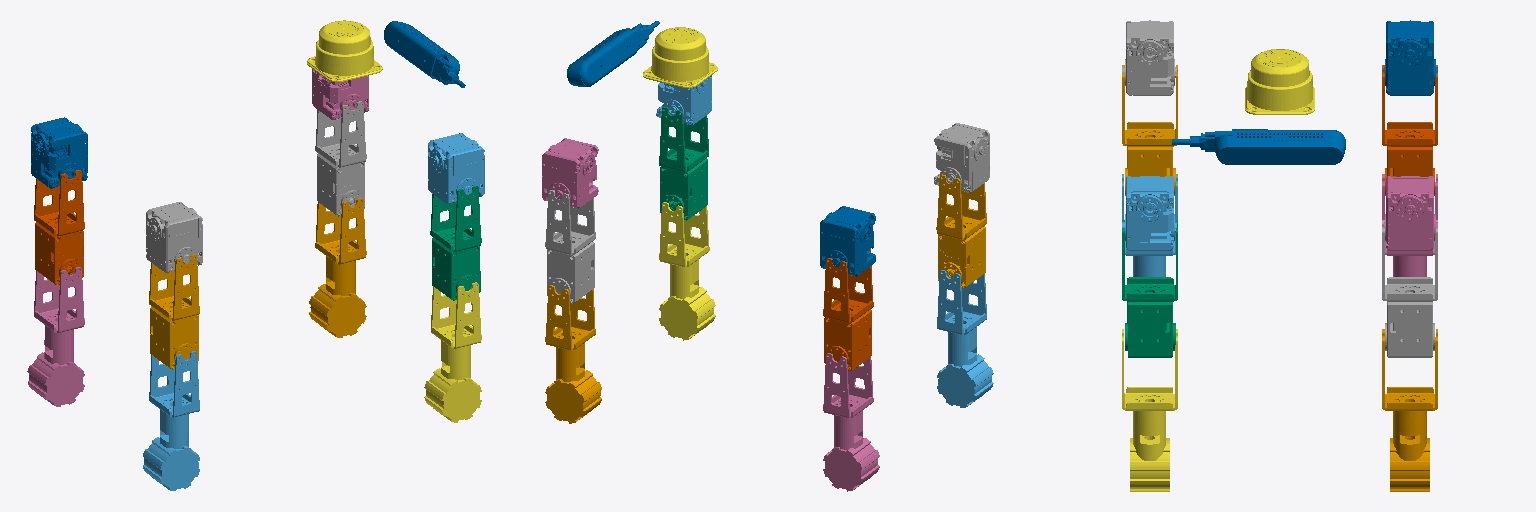
--- Facts derived from the render (not from the file) ---
Views: 3 orthographic renders of the robot side by side, from view 1: azimuth 30°, elevation 25°; view 2: azimuth 150°, elevation 25°; view 3: azimuth 270°, elevation 25°.
Robot: dynabot — 18 links, 17 joints (12 revolute, 5 fixed); root link base_footprint; default pose: every joint at zero.
Links seen in each view (by area): view 1: LF_SHANK, RF_SHANK, LH_SHANK, RH_SHANK, LH_THIGH, RH_THIGH, RF_THIGH, LF_THIGH, lidar_link, RH_HIP, RF_HIP, LH_HIP (+2 smaller); view 2: LF_SHANK, LH_SHANK, RF_SHANK, RH_SHANK, RH_THIGH, LF_THIGH, LH_THIGH, RF_THIGH, lidar_link, LF_HIP, LH_HIP, RH_HIP (+2 smaller); view 3: camera_link, LF_SHANK, RF_SHANK, LF_THIGH, RF_THIGH, lidar_link, LH_HIP, LF_HIP, RH_HIP, RF_HIP, LH_THIGH, RH_THIGH (+2 smaller).
Boxes of the visible links, <box> form: LF_SHANK: <box>309,198,366,337</box>; RF_SHANK: <box>424,282,481,422</box>; LH_SHANK: <box>27,267,84,406</box>; RH_SHANK: <box>143,351,199,490</box>; LH_THIGH: <box>34,170,84,284</box>; RH_THIGH: <box>149,254,199,369</box>; RF_THIGH: <box>430,186,481,300</box>; LF_THIGH: <box>315,101,366,216</box>; lidar_link: <box>307,20,382,81</box>; RH_HIP: <box>146,202,202,272</box>; RF_HIP: <box>428,133,484,204</box>; LH_HIP: <box>31,117,87,188</box>; LF_SHANK: <box>545,285,601,423</box>; LH_SHANK: <box>823,353,879,491</box>; RF_SHANK: <box>659,202,715,340</box>; RH_SHANK: <box>937,270,993,407</box>; RH_THIGH: <box>936,174,986,287</box>; LF_THIGH: <box>545,181,595,303</box>; LH_THIGH: <box>823,248,873,370</box>; RF_THIGH: <box>659,107,708,220</box>; lidar_link: <box>643,27,717,87</box>; LF_HIP: <box>542,138,598,208</box>; LH_HIP: <box>820,206,875,276</box>; RH_HIP: <box>934,123,989,192</box>; camera_link: <box>1172,129,1345,164</box>; LF_SHANK: <box>1382,329,1437,491</box>; RF_SHANK: <box>1122,329,1177,491</box>; LF_THIGH: <box>1382,220,1437,357</box>; RF_THIGH: <box>1122,220,1177,357</box>; lidar_link: <box>1245,49,1314,114</box>; LH_HIP: <box>1384,20,1437,95</box>; LF_HIP: <box>1384,176,1437,250</box>; RH_HIP: <box>1122,20,1176,95</box>; RF_HIP: <box>1122,176,1176,250</box>; LH_THIGH: <box>1382,65,1437,195</box>; RH_THIGH: <box>1122,65,1177,195</box>.
Bounding box of the posed robot: 0.3323 × 0.2371 × 0.3324 m (x, y, z).
Meshes: 6 distinct files referenced, 14 mesh visuals loaded (5 binary STL); not drawn: 1 (reference not matched to a file when rendering).

URDF robot description (dynabot):
<?xml version="1.0" encoding="utf-8"?>
<robot name="dynabot"> 
    
    <link name="base_footprint" />
    
    <joint name="base_link_joint" type="fixed">
        <origin xyz="0 0 0" rpy="0 0 0" />
        <parent link="base_footprint" />
        <child link="base" />
    </joint>

    <!-- Base link -->
    <link name="base">
        <visual>
            <origin rpy="1.57 0 1.57" xyz="0 0 0"/>
            <geometry>
                <mesh filename="package://dynabot_description/meshes/main_body_v4.stl" scale="0.001 0.001 0.001"/>
            </geometry>
        </visual>
        <collision>
            <origin rpy="0 0 0" xyz="0 0 0"/>
            <geometry>
                <box size="0.35 0.22 0.1"/>
            </geometry>
        </collision>
    </link>
    <joint name="base_to_base_inertia" type="fixed">
        <parent link="base"/>
        <child link="base_inertia"/>
        <origin rpy="0 0 0" xyz="0 0 -0.02"/>
    </joint>
    <link name="base_inertia">
        <inertial>
            <origin rpy="0 0 0" xyz="0 0 0"/>
            <mass value="2.082"/>
            <inertia ixx="0.02" ixy="0.0000002" ixz="0.00000006" iyy="0.021" iyz="0.001" izz="0.004"/>
        </inertial>
    </link>
    
    <joint name="base_to_lidar" type="fixed">
        <parent link="base"/>
        <child link="lidar_link"/>
        <origin rpy="0 0 0" xyz="0.085 0 0.0275"/>
    </joint>
    <link name="lidar_link">
        <visual>
            <origin rpy="0 3.14 0" xyz="0 0 -0.025"/>
            <geometry>
                <mesh filename="package://dynabot_description/meshes/rplidar-s1.stl" scale="0.001 0.001 0.001"/>
            </geometry>
        </visual>
    </link>
    
    <joint name="base_to_camera" type="fixed">
        <parent link="base"/>
        <child link="camera_link"/>
        <origin rpy="0 0.3 0" xyz="0.16 0 0.015"/>
    </joint>
    <link name="camera_link">
        <visual>
            <origin rpy="1.57 0 1.57" xyz="0.01 0 0"/>
            <geometry>
                <mesh filename="package://dynabot_description/meshes/realsense.stl" scale="0.001 0.001 0.001"/>
            </geometry>
        </visual>
    </link>
    <joint name="camera_to_image" type="fixed">
        <parent link="camera_link"/>
        <child link="camera_image"/>
        <origin rpy="1.57 3.14 1.57" xyz="0 0 0"/>
    </joint>
    <link name="camera_image" />

    <joint name="LF_HAA" type="revolute">
        <parent link="base"/>
        <child link="LF_HIP"/>
        <origin rpy="0 0 0" xyz="0.1375 0.0975 -0.038"/>
        <axis xyz="-1 0 0"/>
        <limit effort="1.4" lower="-1.57" upper="1" velocity="6.96"/>
        <dynamics damping="0.0" friction="0.0"/>
    </joint>
    <link name="LF_HIP">
        <visual>
            <origin rpy="-1.57 0 0" xyz="0 0 -0.012"/>
            <geometry>
                <mesh filename="package://dynabot_description/meshes/2XL-430.stl" scale="0.001 0.001 0.001"/>
            </geometry>
        </visual>
        <inertial>
            <origin rpy="0 0 0" xyz="0 0 0"/>
            <mass value="0.098"/>
            <inertia ixx="0.005" ixy="0" ixz="0" iyy="0.004" iyz="-0.002" izz="0.002"/>
        </inertial>
        <collision>
            <origin rpy="-1.57 0 0" xyz="0 0 -0.012"/>
            <geometry>
                <box size="0.04 0.046 0.04"/>
            </geometry>
        </collision>
    </link>
    <joint name="LF_HFE" type="revolute">
        <parent link="LF_HIP"/>
        <child link="LF_THIGH"/>
        <origin rpy="0 0 0" xyz="0 0 -0.024"/>
        <axis xyz="0 1 0"/>
        <limit effort="1.4" lower="-2.4" upper="2.4" velocity="6.96"/>
        <dynamics damping="0.0" friction="0.0"/>
    </joint>
    <link name="LF_THIGH">
        <visual>
            <origin rpy="-1.57 0 1.57" xyz="0 -0.0165 -0.047"/>
            <geometry>
                <mesh filename="package://dynabot_description/meshes/thigh.stl" scale="0.001 0.001 0.001"/>
            </geometry>
        </visual>
        <inertial>
            <origin rpy="0 0 0" xyz="0 0 0"/>
            <mass value="0.068"/>
            <inertia ixx="0.005" ixy="0" ixz="0" iyy="0.004" iyz="-0.002" izz="0.002"/>
        </inertial>
        <collision>
            <origin rpy="-1.57 0 1.57" xyz="0 0 -0.05"/>
            <geometry>
                <box size="0.042 0.104 0.03"/>
            </geometry>
        </collision>
    </link>
    <joint name="LF_KFE" type="revolute">
        <parent link="LF_THIGH"/>
        <child link="LF_SHANK"/>
        <origin rpy="0 0 0" xyz="0 0 -0.09"/>
        <axis xyz="0 1 0"/>
        <limit effort="1.4" lower="-2.4" upper="2.4" velocity="6.96"/>
        <dynamics damping="0.0" friction="0.0"/>
    </joint>
    <link name="LF_SHANK">
        <visual>
            <origin rpy="-1.57 0 1.57" xyz="0 -0.0115 -0.0385"/>
            <geometry>
                <mesh filename="package://dynabot_description/meshes/shank.stl" scale="0.001 0.001 0.001"/>
            </geometry>
        </visual>
        <inertial>
            <origin rpy="0 0 0" xyz="0 0 0"/>
            <mass value="0.066"/>
            <inertia ixx="0.005" ixy="0" ixz="0" iyy="0.004" iyz="-0.002" izz="0.002"/>
        </inertial>
        <collision>
            <origin rpy="-1.57 0 1.57" xyz="0 0 -0.062"/>
            <geometry>
                <box size="0.032 0.1 0.028"/>
            </geometry>
        </collision>
        <collision>
            <origin rpy="1.57 0 0" xyz="-0.003 0 -0.107"/>
            <geometry>
                <cylinder length="0.03" radius="0.02"/>
            </geometry>
        </collision>
    </link>
    
    <joint name="RF_HAA" type="revolute">
        <parent link="base"/>
        <child link="RF_HIP"/>
        <origin rpy="0 0 0" xyz="0.1375 -0.0975 -0.038"/>
        <axis xyz="1 0 0"/>
        <limit effort="1.4" lower="-1.57" upper="1" velocity="6.96"/>
        <dynamics damping="0.0" friction="0.0"/>
    </joint>    
    <link name="RF_HIP">
        <visual>
            <origin rpy="-1.57 0 3.14" xyz="0 0 -0.012"/>
            <geometry>
                <mesh filename="package://dynabot_description/meshes/2XL-430.stl" scale="0.001 0.001 0.001"/>
            </geometry>
        </visual>
        <inertial>
            <origin rpy="0 0 0" xyz="0 0 0"/>
            <mass value="0.098"/>
            <inertia ixx="0.005" ixy="0" ixz="0" iyy="0.004" iyz="-0.002" izz="0.002"/>
        </inertial>
        <collision>
            <origin rpy="-1.57 0 0" xyz="0 0 -0.012"/>
            <geometry>
                <box size="0.04 0.046 0.04"/>
            </geometry>
        </collision>
    </link> 
    <joint name="RF_HFE" type="revolute">
        <parent link="RF_HIP"/>
        <child link="RF_THIGH"/>
        <origin rpy="0 0 0" xyz="0 0 -0.024"/>
        <axis xyz="0 -1 0"/>
        <limit effort="1.4" lower="-2.4" upper="2.4" velocity="6.96"/>
        <dynamics damping="0.0" friction="0.0"/>
    </joint>
    <link name="RF_THIGH">
        <visual>
            <origin rpy="-1.57 0 -1.57" xyz="0 0.0165 -0.047"/>
            <geometry>
                <mesh filename="package://dynabot_description/meshes/thigh.stl" scale="0.001 0.001 0.001"/>
            </geometry>
        </visual>
        <inertial>
            <origin rpy="0 0 0" xyz="0 0 0"/>
            <mass value="0.068"/>
            <inertia ixx="0.005" ixy="0" ixz="0" iyy="0.004" iyz="-0.002" izz="0.002"/>
        </inertial>
        <collision>
            <origin rpy="-1.57 0 1.57" xyz="0 0 -0.05"/>
            <geometry>
                <box size="0.042 0.104 0.03"/>
            </geometry>
        </collision>
    </link>
    <joint name="RF_KFE" type="revolute">
        <parent link="RF_THIGH"/>
        <child link="RF_SHANK"/>
        <origin rpy="0 0 0" xyz="0 0 -0.09"/>
        <axis xyz="0 -1 0"/>
        <limit effort="1.4" lower="-2.4" upper="2.4" velocity="6.96"/>
        <dynamics damping="0.0" friction="0.0"/>
    </joint>
    <link name="RF_SHANK">
        <visual>
            <origin rpy="-1.57 0 1.57" xyz="0 -0.0115 -0.0385"/>
            <geometry>
                <mesh filename="package://dynabot_description/meshes/shank.stl" scale="0.001 0.001 0.001"/>
            </geometry>
        </visual>
        <inertial>
            <origin rpy="0 0 0" xyz="0 0 0"/>
            <mass value="0.066"/>
            <inertia ixx="0.005" ixy="0" ixz="0" iyy="0.004" iyz="-0.002" izz="0.002"/>
        </inertial>
        <collision>
            <origin rpy="-1.57 0 1.57" xyz="0 0 -0.062"/>
            <geometry>
                <box size="0.032 0.1 0.028"/>
            </geometry>
        </collision>
        <collision>
            <origin rpy="1.57 0 0" xyz="-0.003 0 -0.107"/>
            <geometry>
                <cylinder length="0.03" radius="0.02"/>
            </geometry>
        </collision>
    </link>
    
    <joint name="LH_HAA" type="revolute">
        <parent link="base"/>
        <child link="LH_HIP"/>
        <origin rpy="0 0 0" xyz="-0.1375 0.0975 -0.038"/>
        <axis xyz="-1 0 0"/>
        <limit effort="1.4" lower="-1.57" upper="1" velocity="6.96"/>
        <dynamics damping="0.0" friction="0.0"/>
    </joint>
    <link name="LH_HIP">
        <visual>
            <origin rpy="-1.57 0 0" xyz="0 0 -0.012"/>
            <geometry>
                <mesh filename="package://dynabot_description/meshes/2XL-430.stl" scale="0.001 0.001 0.001"/>
            </geometry>
        </visual>
        <inertial>
            <origin rpy="0 0 0" xyz="0 0 0"/>
            <mass value="0.098"/>
            <inertia ixx="0.005" ixy="0" ixz="0" iyy="0.004" iyz="-0.002" izz="0.002"/>
        </inertial>
        <collision>
            <origin rpy="-1.57 0 0" xyz="0 0 -0.012"/>
            <geometry>
                <box size="0.04 0.046 0.04"/>
            </geometry>
        </collision>
    </link>
    <joint name="LH_HFE" type="revolute">
        <parent link="LH_HIP"/>
        <child link="LH_THIGH"/>
        <origin rpy="0 0 0" xyz="0 0 -0.024"/>
        <axis xyz="0 1 0"/>
        <limit effort="1.4" lower="-2.4" upper="2.4" velocity="6.96"/>
        <dynamics damping="0.0" friction="0.0"/>
    </joint>
    <link name="LH_THIGH">
        <visual>
            <origin rpy="-1.57 0 1.57" xyz="0 -0.0165 -0.047"/>
            <geometry>
                <mesh filename="package://dynabot_description/meshes/thigh.stl" scale="0.001 0.001 0.001"/>
            </geometry>
        </visual>
        <inertial>
            <origin rpy="0 0 0" xyz="0 0 0"/>
            <mass value="0.068"/>
            <inertia ixx="0.005" ixy="0" ixz="0" iyy="0.004" iyz="-0.002" izz="0.002"/>
        </inertial>
        <collision>
            <origin rpy="-1.57 0 1.57" xyz="0 0 -0.05"/>
            <geometry>
                <box size="0.042 0.104 0.03"/>
            </geometry>
        </collision>
    </link>
    <joint name="LH_KFE" type="revolute">
        <parent link="LH_THIGH"/>
        <child link="LH_SHANK"/>
        <origin rpy="0 0 0" xyz="0 0 -0.09"/>
        <axis xyz="0 1 0"/>
        <limit effort="1.4" lower="-2.4" upper="2.4" velocity="6.96"/>
        <dynamics damping="0.0" friction="0.0"/>
    </joint>
    <link name="LH_SHANK">
        <visual>
            <origin rpy="-1.57 0 1.57" xyz="0 -0.0115 -0.0385"/>
            <geometry>
                <mesh filename="package://dynabot_description/meshes/shank.stl" scale="0.001 0.001 0.001"/>
            </geometry>
        </visual>
        <inertial>
            <origin rpy="0 0 0" xyz="0 0 0"/>
            <mass value="0.066"/>
            <inertia ixx="0.005" ixy="0" ixz="0" iyy="0.004" iyz="-0.002" izz="0.002"/>
        </inertial>
        <collision>
            <origin rpy="-1.57 0 1.57" xyz="0 0 -0.062"/>
            <geometry>
                <box size="0.032 0.1 0.028"/>
            </geometry>
        </collision>
        <collision>
            <origin rpy="1.57 0 0" xyz="-0.003 0 -0.107"/>
            <geometry>
                <cylinder length="0.03" radius="0.02"/>
            </geometry>
        </collision>
    </link>
    
    <joint name="RH_HAA" type="revolute">
        <parent link="base"/>
        <child link="RH_HIP"/>
        <origin rpy="0 0 0" xyz="-0.1375 -0.0975 -0.038"/>
        <axis xyz="1 0 0"/>
        <limit effort="1.4" lower="-1.57" upper="1" velocity="6.96"/>
        <dynamics damping="0.0" friction="0.0"/>
    </joint>    
    <link name="RH_HIP">
        <visual>
            <origin rpy="-1.57 0 3.14" xyz="0 0 -0.012"/>
            <geometry>
                <mesh filename="package://dynabot_description/meshes/2XL-430.stl" scale="0.001 0.001 0.001"/>
            </geometry>
        </visual>
        <inertial>
            <origin rpy="0 0 0" xyz="0 0 0"/>
            <mass value="0.098"/>
            <inertia ixx="0.005" ixy="0" ixz="0" iyy="0.004" iyz="-0.002" izz="0.002"/>
        </inertial>
        <collision>
            <origin rpy="-1.57 0 0" xyz="0 0 -0.012"/>
            <geometry>
                <box size="0.04 0.046 0.04"/>
            </geometry>
        </collision>
    </link> 
    <joint name="RH_HFE" type="revolute">
        <parent link="RH_HIP"/>
        <child link="RH_THIGH"/>
        <origin rpy="0 0 0" xyz="0 0 -0.024"/>
        <axis xyz="0 -1 0"/>
        <limit effort="1.4" lower="-2.4" upper="2.4" velocity="6.96"/>
        <dynamics damping="0.0" friction="0.0"/>
    </joint>
    <link name="RH_THIGH">
        <visual>
            <origin rpy="-1.57 0 -1.57" xyz="0 0.0165 -0.047"/>
            <geometry>
                <mesh filename="package://dynabot_description/meshes/thigh.stl" scale="0.001 0.001 0.001"/>
            </geometry>
        </visual>
        <inertial>
            <origin rpy="0 0 0" xyz="0 0 0"/>
            <mass value="0.068"/>
            <inertia ixx="0.005" ixy="0" ixz="0" iyy="0.004" iyz="-0.002" izz="0.002"/>
        </inertial>
        <collision>
            <origin rpy="-1.57 0 1.57" xyz="0 0 -0.05"/>
            <geometry>
                <box size="0.042 0.104 0.03"/>
            </geometry>
        </collision>
    </link>
    <joint name="RH_KFE" type="revolute">
        <parent link="RH_THIGH"/>
        <child link="RH_SHANK"/>
        <origin rpy="0 0 0" xyz="0 0 -0.09"/>
        <axis xyz="0 -1 0"/>
        <limit effort="1.4" lower="-2.57" upper="2.57" velocity="6.96"/>
        <dynamics damping="0.0" friction="0.0"/>
    </joint>
    <link name="RH_SHANK">
        <visual>
            <origin rpy="-1.57 0 1.57" xyz="0 -0.0115 -0.0385"/>
            <geometry>
                <mesh filename="package://dynabot_description/meshes/shank.stl" scale="0.001 0.001 0.001"/>
            </geometry>
        </visual>
        <inertial>
            <origin rpy="0 0 0" xyz="0 0 0"/>
            <mass value="0.066"/>
            <inertia ixx="0.005" ixy="0" ixz="0" iyy="0.004" iyz="-0.002" izz="0.002"/>
        </inertial>
        <collision>
            <origin rpy="-1.57 0 1.57" xyz="0 0 -0.062"/>
            <geometry>
                <box size="0.032 0.1 0.028"/>
            </geometry>
        </collision>
        <collision>
            <origin rpy="1.57 0 0" xyz="-0.003 0 -0.107"/>
            <geometry>
                <cylinder length="0.03" radius="0.02"/>
            </geometry>
        </collision>
    </link>
    
    <gazebo reference="LF_SHANK">
		<mu1>1.0</mu1>
		<mu2>1.0</mu2>
		<minDepth>0.0002</minDepth>
		<kp  value="1000000.0"/>
		<kd  value="100.0"/>
	</gazebo>

	<gazebo reference="RF_SHANK">
		<mu1>1.0</mu1>
		<mu2>1.0</mu2>
		<minDepth>0.0002</minDepth>
		<kp  value="1000000.0"/>
		<kd  value="100.0"/>
	</gazebo>

	<gazebo reference="LH_SHANK">
		<mu1>1.0</mu1>
		<mu2>1.0</mu2>
		<minDepth>0.0002</minDepth>
		<kp  value="1000000.0"/>
		<kd  value="100.0"/>
	</gazebo>

	<gazebo reference="RH_SHANK">
		<mu1>1.0</mu1>
		<mu2>1.0</mu2>
		<minDepth>0.0002</minDepth>
		<kp  value="1000000.0"/>
		<kd  value="100.0"/>
	</gazebo>
	
  <gazebo reference="camera_link">
  <sensor name="camera_link_camera" type="depth">
    <update_rate>20</update_rate>
    <camera>
      <horizontal_fov>1.047198</horizontal_fov>
      <image>
        <width>640</width>
        <height>480</height>
        <format>R8G8B8</format>
      </image>
      <clip>
        <near>0.05</near>
        <far>3</far>
      </clip>
    </camera>
    <plugin name="camera_link_controller" filename="libgazebo_ros_openni_kinect.so">
      <baseline>0.2</baseline>
      <alwaysOn>true</alwaysOn>
      <updateRate>1.0</updateRate>
      <cameraName>camera_ir</cameraName>
      <imageTopicName>/camera/color/image_raw</imageTopicName>
      <cameraInfoTopicName>/camera/color/camera_info</cameraInfoTopicName>
      <depthImageTopicName>/camera/depth/image_raw</depthImageTopicName>
      <depthImageInfoTopicName>/camera/depth/camera_info</depthImageInfoTopicName>
      <pointCloudTopicName>/camera/depth/points</pointCloudTopicName>
      <frameName>camera_image</frameName>
      <pointCloudCutoff>0.5</pointCloudCutoff>
      <pointCloudCutoffMax>3.0</pointCloudCutoffMax>
      <distortionK1>0.00000001</distortionK1>
      <distortionK2>0.00000001</distortionK2>
      <distortionK3>0.00000001</distortionK3>
      <distortionT1>0.00000001</distortionT1>
      <distortionT2>0.00000001</distortionT2>
      <CxPrime>0</CxPrime>
      <Cx>0</Cx>
      <Cy>0</Cy>
      <focalLength>0</focalLength>
      <hackBaseline>0</hackBaseline>
    </plugin>
  </sensor>
</gazebo>
  
  <!-- hokuyo -->
  <gazebo reference="lidar_link">
    <sensor type="gpu_ray" name="head_hokuyo_sensor">
      <pose>0 0 0 0 0 0</pose>
      <visualize>false</visualize>
      <update_rate>40</update_rate>
      <ray>
        <scan>
          <horizontal>
            <samples>720</samples>
            <resolution>1</resolution>
            <min_angle>-3.14</min_angle>
            <max_angle>3.14</max_angle>
          </horizontal>
        </scan>
        <range>
          <min>0.10</min>
          <max>30.0</max>
          <resolution>0.01</resolution>
        </range>
        <noise>
          <type>gaussian</type>
          <!-- Noise parameters based on published spec for Hokuyo laser
               achieving "+-30mm" accuracy at range < 10m.  A mean of 0.0m and
               stddev of 0.01m will put 99.7% of samples within 0.03m of the true
               reading. -->
          <mean>0.0</mean>
          <stddev>0.01</stddev>
        </noise>
      </ray>
      <plugin name="gazebo_ros_head_hokuyo_controller" filename="libgazebo_ros_gpu_laser.so">
        <topicName>/scan</topicName>
        <frameName>lidar_link</frameName>
      </plugin>
    </sensor>
  </gazebo>
    
    <!-- IMU sensor -->
	<gazebo reference="base_inertia">
		<gravity>true</gravity>
		<sensor name="imu_sensor" type="imu">
			<always_on>true</always_on>
			<update_rate>100</update_rate>
			<visualize>true</visualize>
			<topic>__default_topic__</topic>
			<plugin filename="libgazebo_ros_imu_sensor.so" name="imu_plugin">
				<topicName>dynabot/imu</topicName>
				<bodyName>base_inertia</bodyName>
				<updateRateHZ>15.0</updateRateHZ>
				<gaussianNoise>0.0</gaussianNoise>
				<xyzOffset>0 0 0</xyzOffset>
				<rpyOffset>0 0 0</rpyOffset>
				<frameName>base_inertia</frameName>
				<initialOrientationAsReference>false</initialOrientationAsReference>
			</plugin>
			<pose>0 0 0 0 0 0</pose>
		</sensor>
	</gazebo>
    
    <transmission name="LF_HAA_trans">
      <type>transmission_interface/SimpleTransmission</type>
      <joint name="LF_HAA">
         <hardwareInterface>hardware_interface/EffortJointInterface</hardwareInterface>
      </joint>
      <actuator name="LF_HAA_actuator">
         <hardwareInterface>hardware_interface/EffortJointInterface</hardwareInterface>
         <mechanicalReduction>1</mechanicalReduction>
      </actuator>
   </transmission>
   <transmission name="LF_HFE_trans">
      <type>transmission_interface/SimpleTransmission</type>
      <joint name="LF_HFE">
         <hardwareInterface>hardware_interface/EffortJointInterface</hardwareInterface>
      </joint>
      <actuator name="LF_HFE_actuator">
         <hardwareInterface>hardware_interface/EffortJointInterface</hardwareInterface>
         <mechanicalReduction>1</mechanicalReduction>
      </actuator>
   </transmission>
   <transmission name="LF_KFE_trans">
      <type>transmission_interface/SimpleTransmission</type>
      <joint name="LF_KFE">
         <hardwareInterface>hardware_interface/EffortJointInterface</hardwareInterface>
      </joint>
      <actuator name="LF_KFE_actuator">
         <hardwareInterface>hardware_interface/EffortJointInterface</hardwareInterface>
         <mechanicalReduction>1</mechanicalReduction>
      </actuator>
   </transmission>
   <transmission name="RF_HAA_trans">
      <type>transmission_interface/SimpleTransmission</type>
      <joint name="RF_HAA">
         <hardwareInterface>hardware_interface/EffortJointInterface</hardwareInterface>
      </joint>
      <actuator name="RF_HAA_actuator">
         <hardwareInterface>hardware_interface/EffortJointInterface</hardwareInterface>
         <mechanicalReduction>1</mechanicalReduction>
      </actuator>
   </transmission>
   <transmission name="RF_HFE_trans">
      <type>transmission_interface/SimpleTransmission</type>
      <joint name="RF_HFE">
         <hardwareInterface>hardware_interface/EffortJointInterface</hardwareInterface>
      </joint>
      <actuator name="RF_HFE_actuator">
         <hardwareInterface>hardware_interface/EffortJointInterface</hardwareInterface>
         <mechanicalReduction>1</mechanicalReduction>
      </actuator>
   </transmission>
   <transmission name="RF_KFE_trans">
      <type>transmission_interface/SimpleTransmission</type>
      <joint name="RF_KFE">
         <hardwareInterface>hardware_interface/EffortJointInterface</hardwareInterface>
      </joint>
      <actuator name="RF_KFE_actuator">
         <hardwareInterface>hardware_interface/EffortJointInterface</hardwareInterface>
         <mechanicalReduction>1</mechanicalReduction>
      </actuator>
   </transmission>
   <transmission name="LH_HAA_trans">
      <type>transmission_interface/SimpleTransmission</type>
      <joint name="LH_HAA">
         <hardwareInterface>hardware_interface/EffortJointInterface</hardwareInterface>
      </joint>
      <actuator name="LH_HAA_actuator">
         <hardwareInterface>hardware_interface/EffortJointInterface</hardwareInterface>
         <mechanicalReduction>1</mechanicalReduction>
      </actuator>
   </transmission>
   <transmission name="LH_HFE_trans">
      <type>transmission_interface/SimpleTransmission</type>
      <joint name="LH_HFE">
         <hardwareInterface>hardware_interface/EffortJointInterface</hardwareInterface>
      </joint>
      <actuator name="LH_HFE_actuator">
         <hardwareInterface>hardware_interface/EffortJointInterface</hardwareInterface>
         <mechanicalReduction>1</mechanicalReduction>
      </actuator>
   </transmission>
   <transmission name="LH_KFE_trans">
      <type>transmission_interface/SimpleTransmission</type>
      <joint name="LH_KFE">
         <hardwareInterface>hardware_interface/EffortJointInterface</hardwareInterface>
      </joint>
      <actuator name="LH_KFE_actuator">
         <hardwareInterface>hardware_interface/EffortJointInterface</hardwareInterface>
         <mechanicalReduction>1</mechanicalReduction>
      </actuator>
   </transmission>
   <transmission name="RH_HAA_trans">
      <type>transmission_inteRHace/SimpleTransmission</type>
      <joint name="RH_HAA">
         <hardwareInterface>hardware_interface/EffortJointInterface</hardwareInterface>
      </joint>
      <actuator name="RH_HAA_actuator">
         <hardwareInterface>hardware_interface/EffortJointInterface</hardwareInterface>
         <mechanicalReduction>1</mechanicalReduction>
      </actuator>
   </transmission>
   <transmission name="RH_HFE_trans">
      <type>transmission_inteRHace/SimpleTransmission</type>
      <joint name="RH_HFE">
         <hardwareInterface>hardware_interface/EffortJointInterface</hardwareInterface>
      </joint>
      <actuator name="RH_HFE_actuator">
         <hardwareInterface>hardware_interface/EffortJointInterface</hardwareInterface>
         <mechanicalReduction>1</mechanicalReduction>
      </actuator>
   </transmission>
   <transmission name="RH_KFE_trans">
      <type>transmission_inteRHace/SimpleTransmission</type>
      <joint name="RH_KFE">
         <hardwareInterface>hardware_interface/EffortJointInterface</hardwareInterface>
      </joint>
      <actuator name="RH_KFE_actuator">
         <hardwareInterface>hardware_interface/EffortJointInterface</hardwareInterface>
         <mechanicalReduction>1</mechanicalReduction>
      </actuator>
   </transmission>
   <gazebo>
      <plugin filename="libgazebo_ros_control.so" name="gazebo_ros_control">
         <legacyModeNS>true</legacyModeNS>
      </plugin>
   </gazebo>
</robot>
